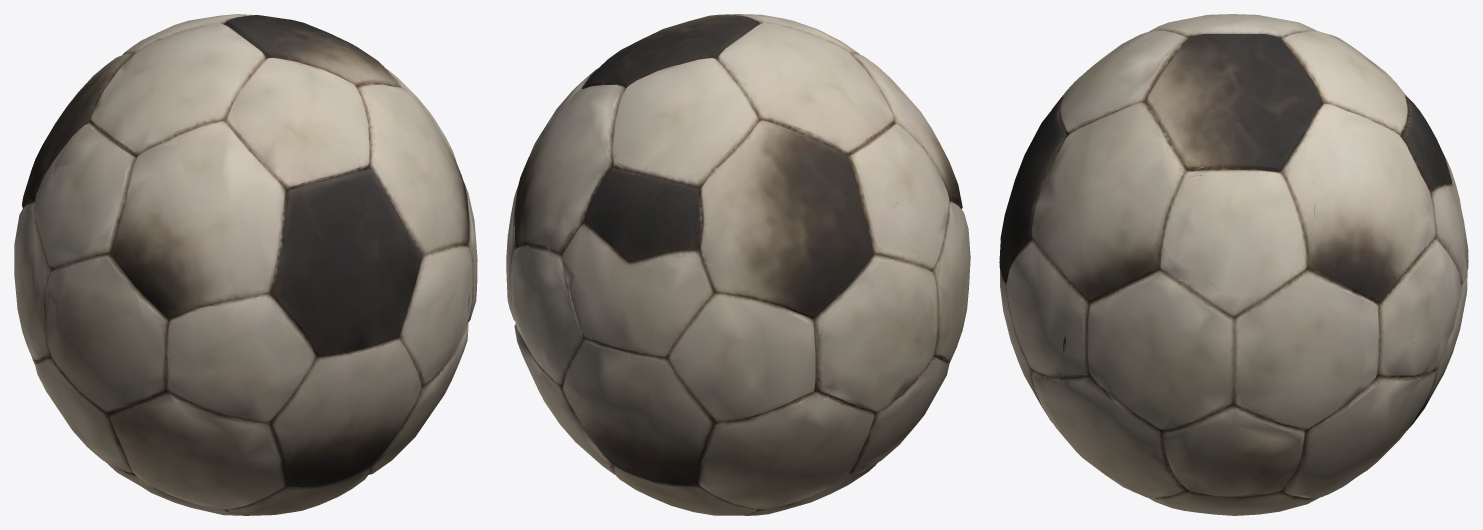
Rendered from ball.glb.
3 renders of one model, left to right at view 1: azimuth 30°, elevation 25°; view 2: azimuth 150°, elevation 25°; view 3: azimuth 270°, elevation 25°, orthographic.
Parts seen in each view (by area): view 1: geometry_0; view 2: geometry_0; view 3: geometry_0.
Part boxes in pixels (bbox=[...]): geometry_0: bbox=[14, 14, 477, 515]; geometry_0: bbox=[506, 14, 970, 515]; geometry_0: bbox=[999, 14, 1468, 515].
Bounding box in the file's own units: 0.1998 × 0.2199 × 0.2004.
1 material, 1 textured.
